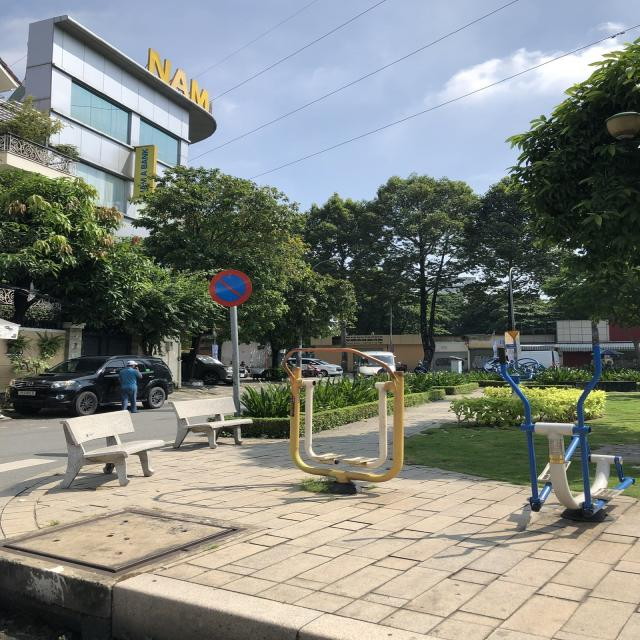Bien bao cam do xe: (204, 262, 256, 312)
